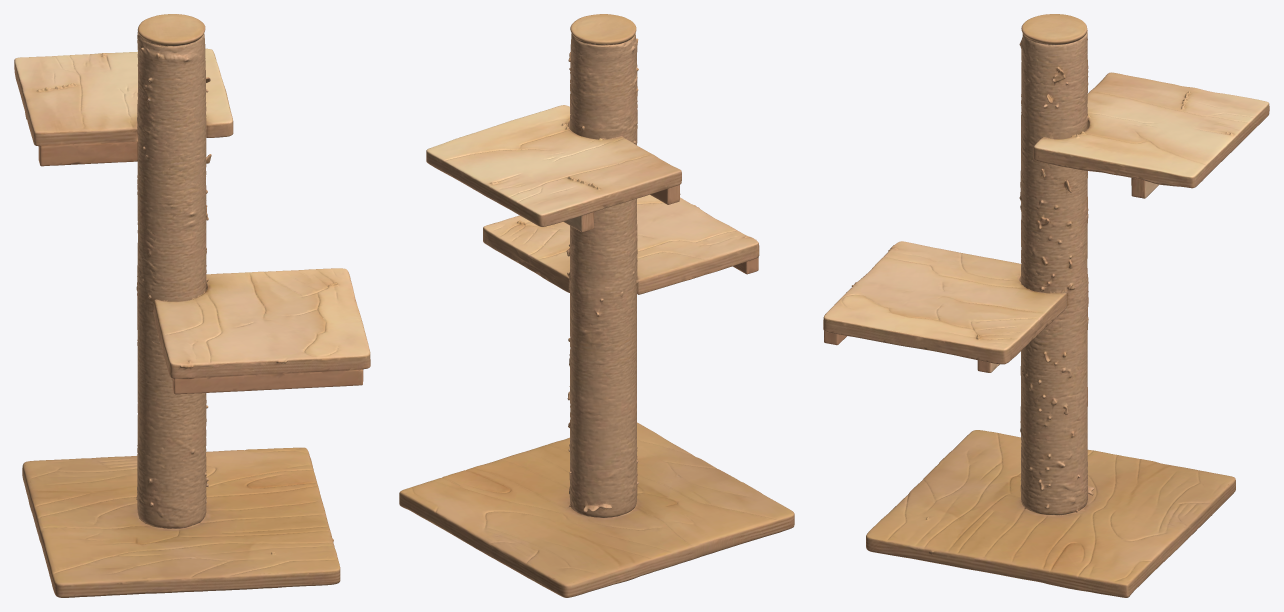
The model's file is arvore-compacta-2-niveis.glb.
3 views of the same model, side by side, from view 1: azimuth 30°, elevation 25°; view 2: azimuth 150°, elevation 25°; view 3: azimuth 270°, elevation 25° (orthographic). The views are drawn at different scales.
Visible parts, largest first — view 1: tripo_node_2dd374d8-e604-42f7-9702-315d4473aca8; view 2: tripo_node_2dd374d8-e604-42f7-9702-315d4473aca8; view 3: tripo_node_2dd374d8-e604-42f7-9702-315d4473aca8.
Boxes of the visible parts, left/top/right/bottom form: tripo_node_2dd374d8-e604-42f7-9702-315d4473aca8: left=14, top=14, right=370, bottom=597; tripo_node_2dd374d8-e604-42f7-9702-315d4473aca8: left=399, top=14, right=794, bottom=597; tripo_node_2dd374d8-e604-42f7-9702-315d4473aca8: left=823, top=14, right=1269, bottom=597.
Size of the model in its own units: 0.6775 by 1 by 0.8226.
1 material, 1 textured.
